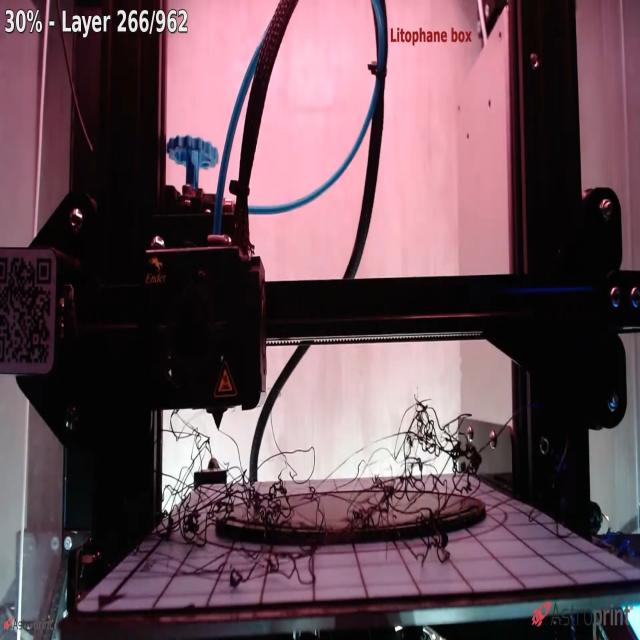spaghetti: (138, 390, 488, 592)
